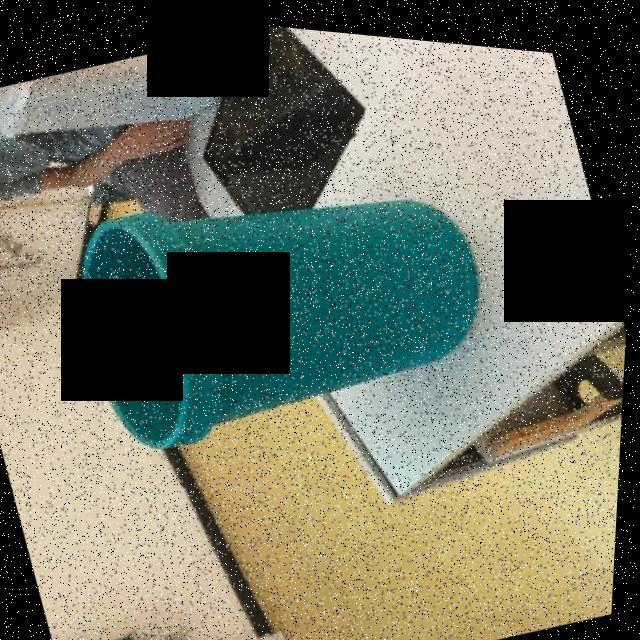bin: (0, 81, 581, 564)
